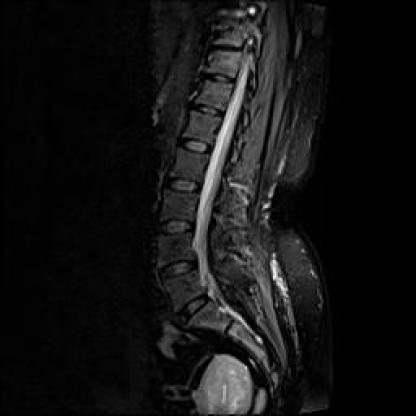Disc Relaxationrotation: (153, 255, 203, 281)
